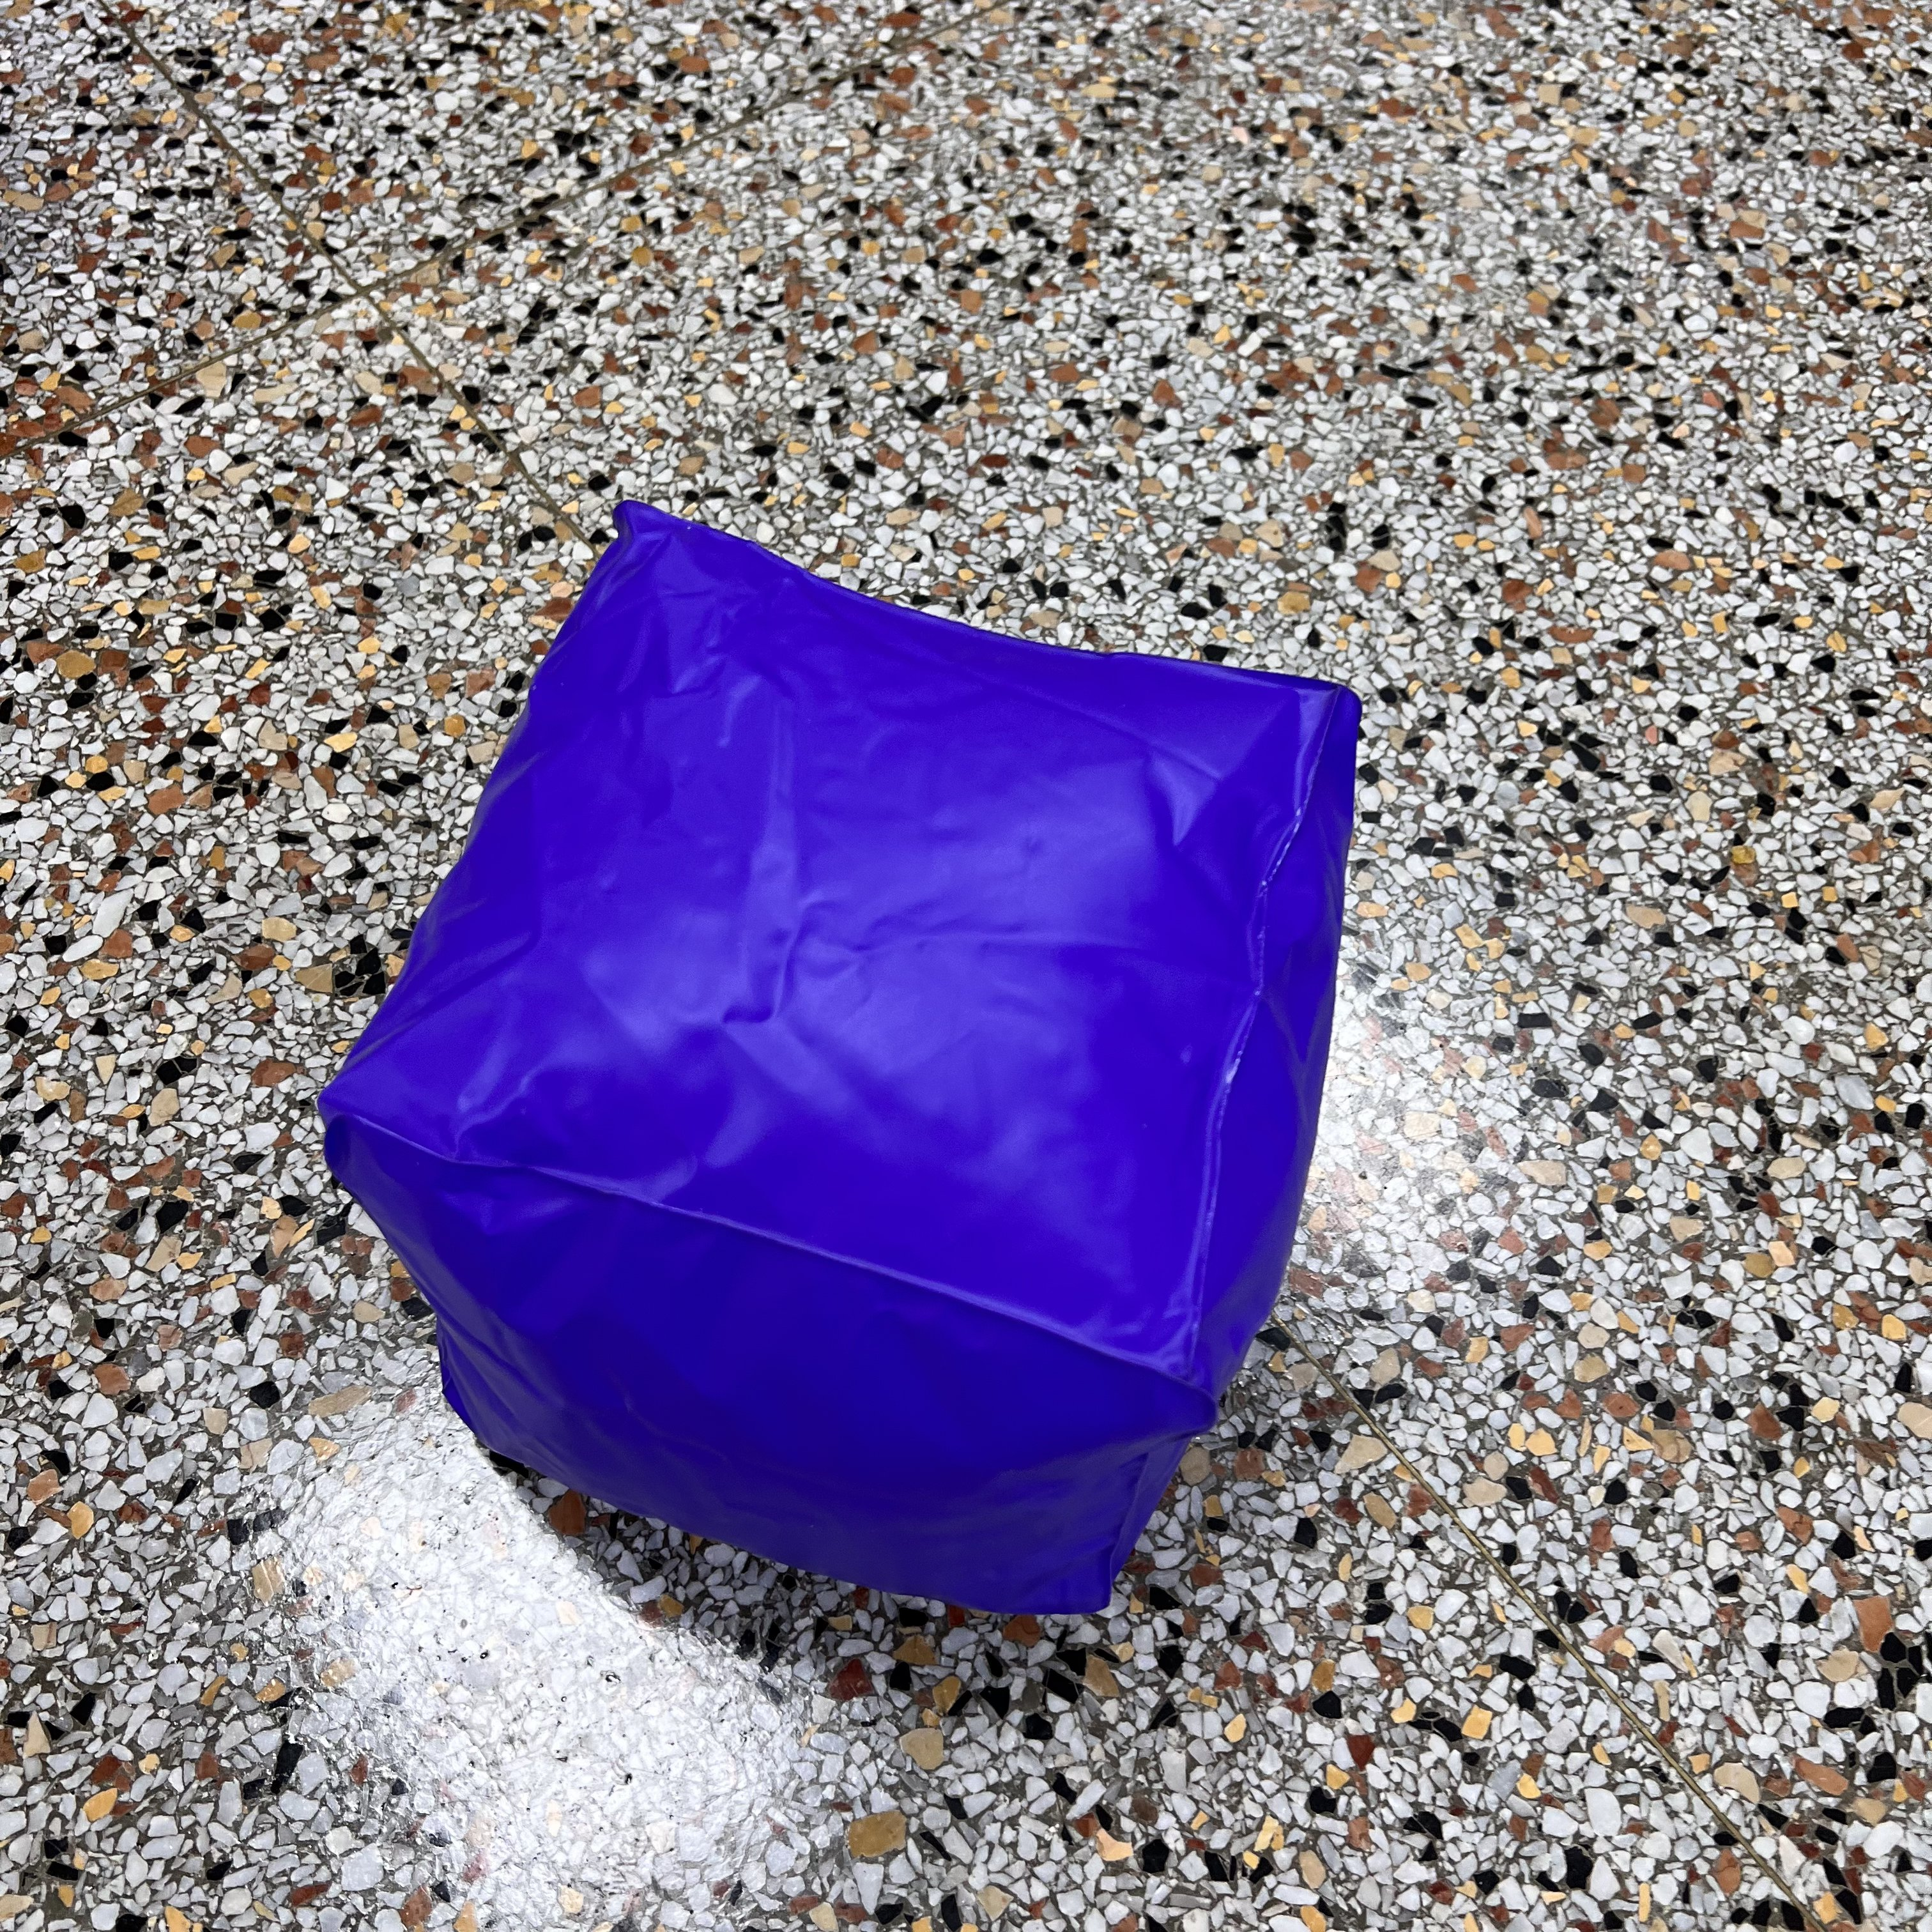cube: (317, 499, 1359, 1615)
